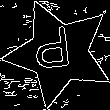P_S: (37, 26, 80, 80)
